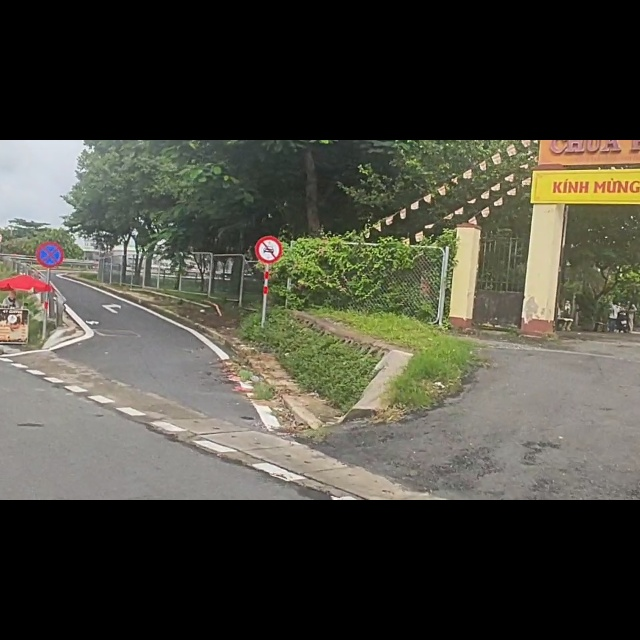bien_cam: (255, 169, 283, 222), (36, 180, 65, 229)
